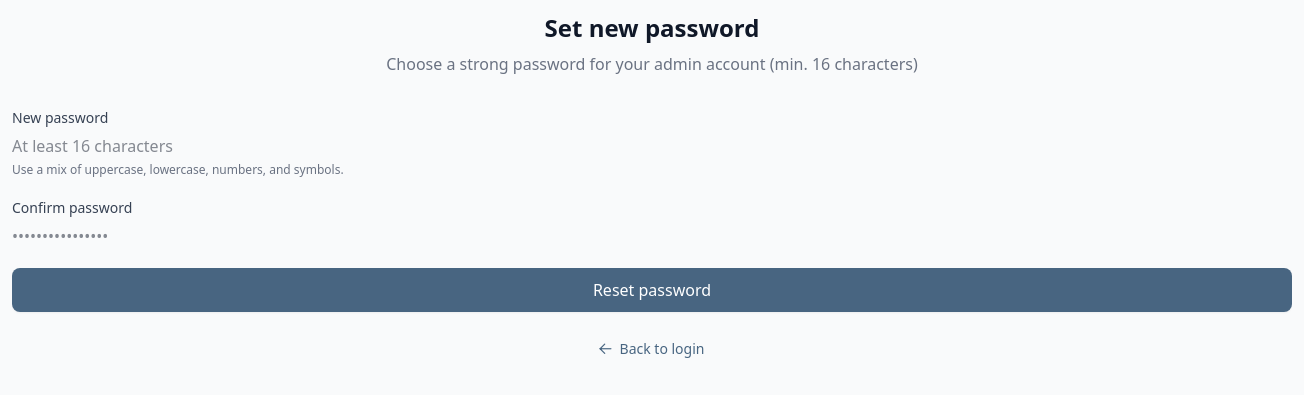
it: ResetPasswordView — F-21: 16-character minimum password › rejects mismatched confirmation password
The image size is (1304, 395).
Step 1. Type "StrongPassword12!" into the password field labelled "New password" → (652, 146), box [12, 134, 1292, 158]
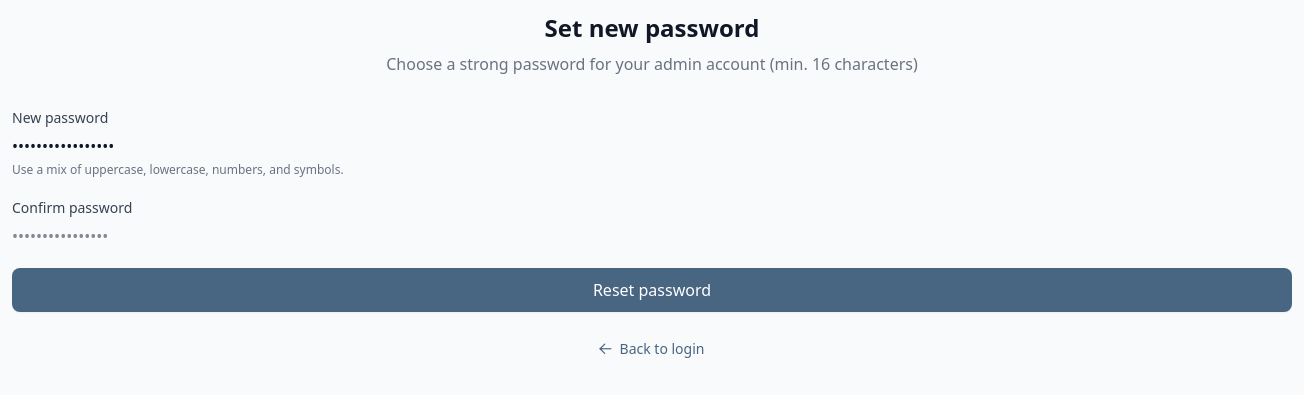
Step 2. Type "DifferentPassword!" into the password field labelled "Confirm password" → (652, 236), box [12, 224, 1292, 248]
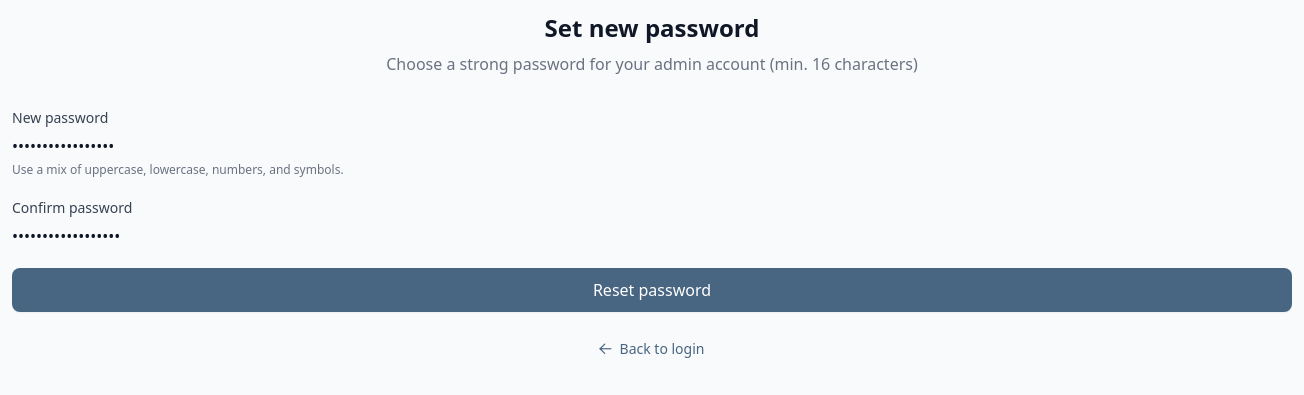
Step 3. Submit the form, box [12, 108, 1292, 312]
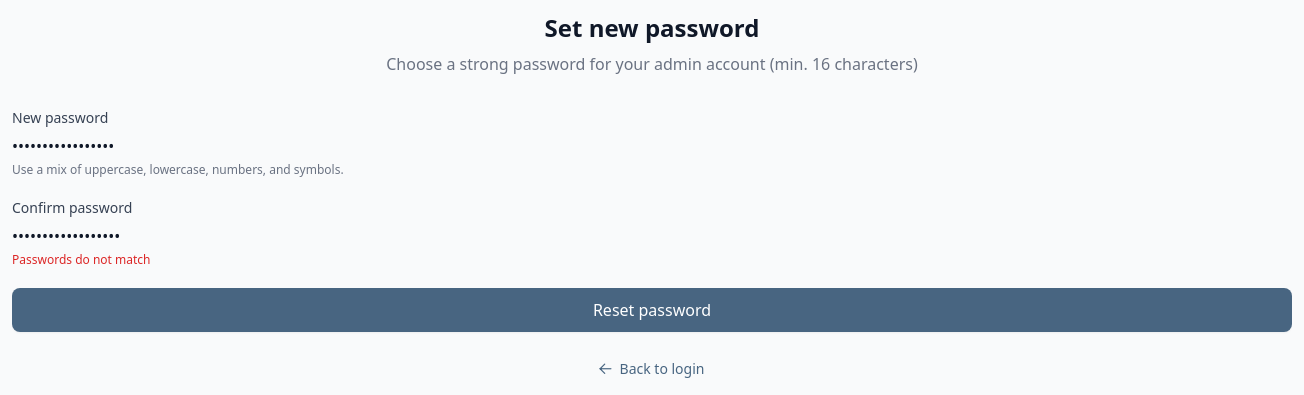
Check: the text "do not match" is shown, box [12, 251, 150, 268]
